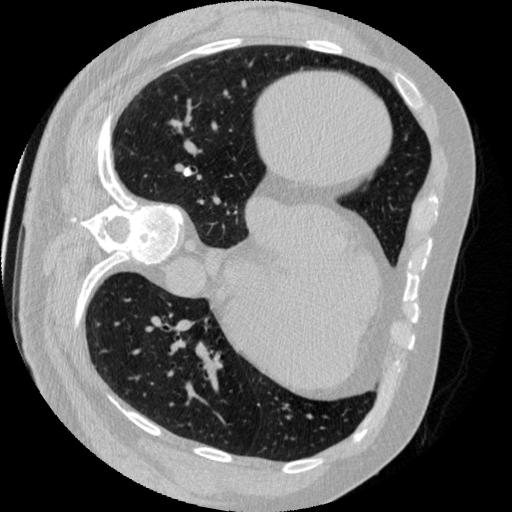nodule: (180, 164, 194, 179)
